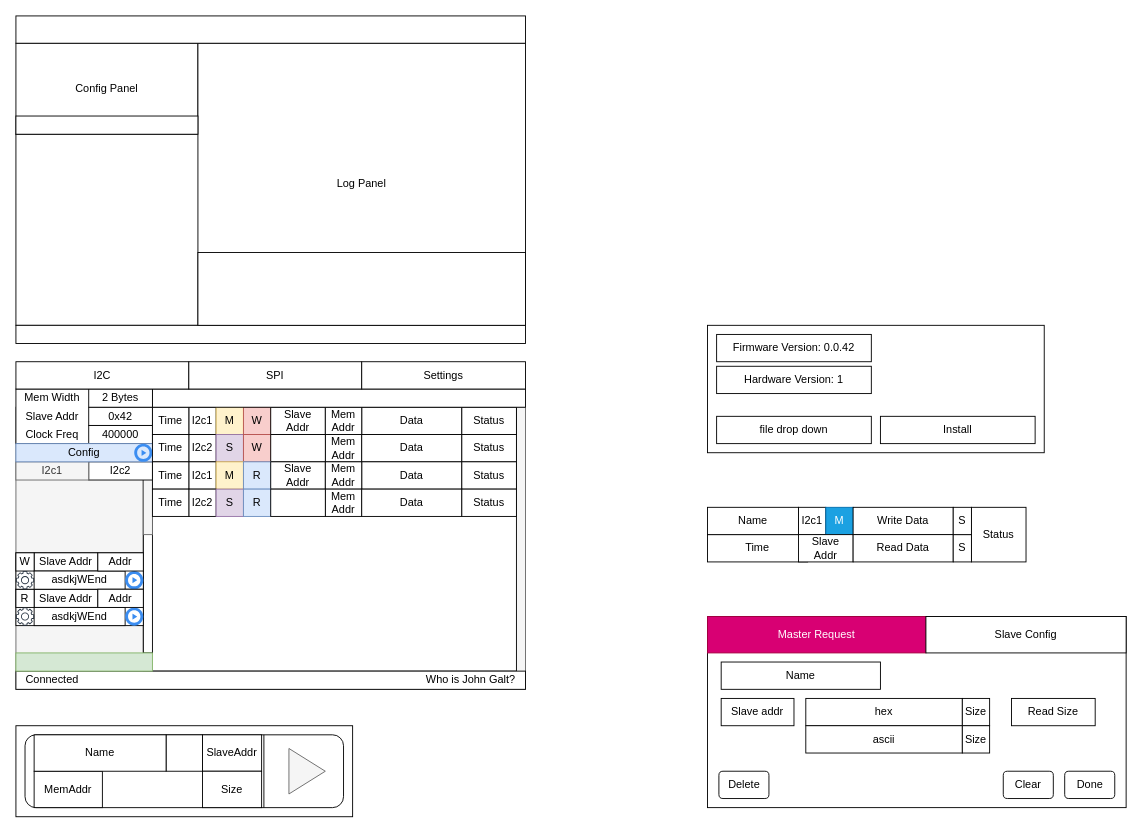
Image size: 1142x833. Some labels were removed from this diagram. The centre of each missing label's shape, as x and y in pixels:
Add: the point at 83,661
Config Tab Bar: the point at 106,124
Footer Panel: the point at 270,334
Log: the point at 339,397
MR/SC: the point at 183,752
Request Form Panel: the point at 361,288
Request List Panel: the point at 111,229
Tab Bar: the point at 270,29
